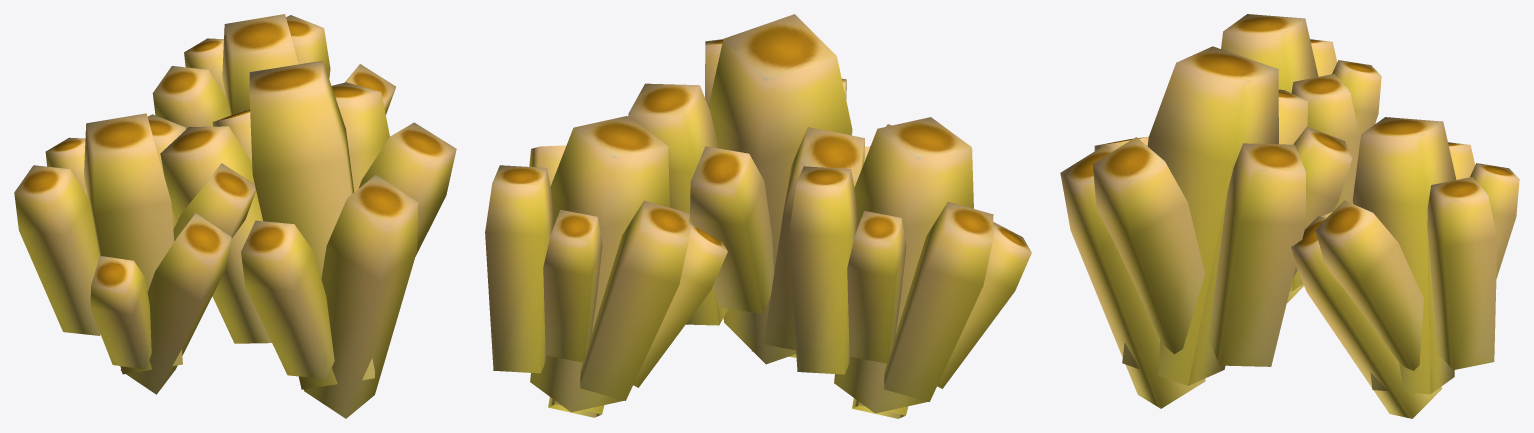
File: Battle05_Other_011.FBX
3 views of the same model, side by side, from view 1: azimuth 30°, elevation 25°; view 2: azimuth 150°, elevation 25°; view 3: azimuth 270°, elevation 25° (orthographic). The views are drawn at different scales.
Visible parts, largest first — view 1: Battle05_Other_011; view 2: Battle05_Other_011; view 3: Battle05_Other_011.
Boxes of the visible parts, x1,y1,x2,y2 form: Battle05_Other_011: (14, 14, 456, 418); Battle05_Other_011: (485, 14, 1031, 418); Battle05_Other_011: (1060, 14, 1519, 418).
Bounding box in the file's own units: 1.77 × 1.37 × 1.72.
